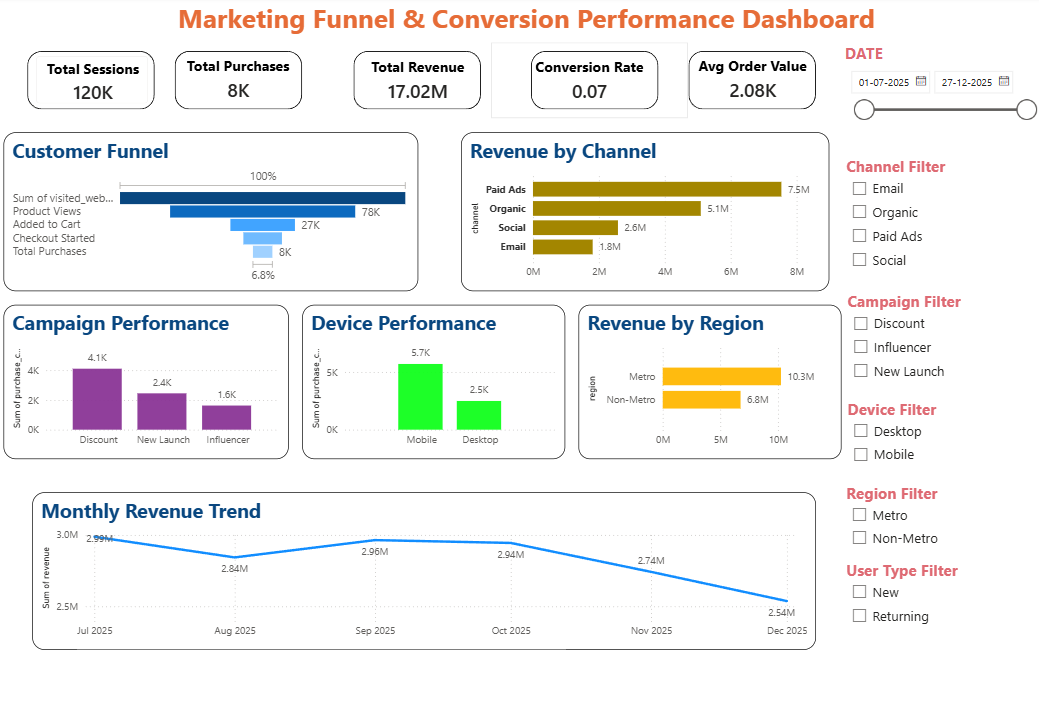

What the dashboard file says about the page in this screenshot:
{"tool":"powerbi","page":{"name":"Page 1","canvas":[1282,900],"ordinal":0},"visuals":[{"type":"shape","box":[38.6,67.1,155.7,71.4],"z":0},{"type":"shape","box":[218.6,67.1,155.7,71.4],"z":1000},{"type":"shape","box":[437.1,67.1,155.7,71.4],"z":2000},{"type":"shape","box":[654.3,67.1,155.7,71.4],"z":3000},{"type":"shape","box":[847.1,67.1,155.7,71.4],"z":4000},{"type":"cardVisual","fields":{"Data":["cleaned_marketing_funnel_data.Total Sessions"]},"box":[31.4,57.1,171.4,92.9],"z":5000},{"type":"cardVisual","fields":{"Data":["cleaned_marketing_funnel_data.Total Purchases"]},"box":[194.3,55.7,204.3,92.9],"z":6000},{"type":"cardVisual","fields":{"Data":["cleaned_marketing_funnel_data.Total Revenue"]},"box":[420,57.1,191.4,92.9],"z":7000},{"type":"cardVisual","fields":{"Data":["cleaned_marketing_funnel_data.Conversion Rate"]},"box":[605.7,57.1,241.4,92.9],"z":8000},{"type":"cardVisual","fields":{"Data":["cleaned_marketing_funnel_data.Avg Order Value"]},"box":[815.7,55.7,218.6,92.9],"z":9000},{"type":"funnel","title":"Customer Funnel","fields":{"Y":["Sum(cleaned_marketing_funnel_data.visited_website)","cleaned_marketing_funnel_data.Product Views","cleaned_marketing_funnel_data.Added to Cart","cleaned_marketing_funnel_data.Checkout Started","cleaned_marketing_funnel_data.Total Purchases"]},"box":[8.6,167.1,507.1,194.3],"z":10000},{"type":"clusteredBarChart","title":"Revenue by Channel","fields":{"Category":["cleaned_marketing_funnel_data.channel"],"Y":["Sum(cleaned_marketing_funnel_data.revenue)"]},"box":[568.6,167.1,450,194.3],"z":11000},{"type":"clusteredColumnChart","title":"Campaign Performance","fields":{"Y":["Sum(cleaned_marketing_funnel_data.purchase_completed)"],"Category":["cleaned_marketing_funnel_data.campaign_type"]},"box":[8.6,377.1,348.6,188.6],"z":12000},{"type":"clusteredColumnChart","title":"Device Performance","fields":{"Y":["Sum(cleaned_marketing_funnel_data.purchase_completed)"],"Category":["cleaned_marketing_funnel_data.device"]},"box":[374.3,377.1,321.4,188.6],"z":13000},{"type":"clusteredBarChart","title":"Revenue by Region","fields":{"Category":["cleaned_marketing_funnel_data.region"],"Y":["Sum(cleaned_marketing_funnel_data.revenue)"]},"box":[712.9,377.1,321.4,188.6],"z":14000},{"type":"lineChart","title":"Monthly Revenue Trend","fields":{"Y":["Sum(cleaned_marketing_funnel_data.revenue)"],"Category":["cleaned_marketing_funnel_data.month.Variation.Date Hierarchy.Year","cleaned_marketing_funnel_data.month.Variation.Date Hierarchy.Quarter","cleaned_marketing_funnel_data.month.Variation.Date Hierarchy.Month","cleaned_marketing_funnel_data.month.Variation.Date Hierarchy.Day"]},"box":[44.3,607.1,958.6,192.9],"z":15000},{"type":"slicer","title":"Channel Filter","fields":{"Values":["cleaned_marketing_funnel_data.channel"]},"box":[1035,195,220,160],"z":16000},{"type":"slicer","title":"Campaign Filter","fields":{"Values":["cleaned_marketing_funnel_data.campaign_type"]},"box":[1035.7,361.4,220,130],"z":17000},{"type":"slicer","title":"Device Filter","fields":{"Values":["cleaned_marketing_funnel_data.device"]},"box":[1035.7,491.4,220,94.3],"z":18000},{"type":"slicer","title":"Region Filter","fields":{"Values":["cleaned_marketing_funnel_data.region"]},"box":[1035,595,220,108.3],"z":19000},{"type":"slicer","title":"User Type Filter","fields":{"Values":["cleaned_marketing_funnel_data.user_type"]},"box":[1035,690,220,120],"z":19001},{"type":"textbox","box":[116.7,0,1065,56.7],"z":19003},{"type":"textbox","box":[100,800,596.7,100],"z":19004},{"type":"slicer","title":"DATE","fields":{"Values":["cleaned_marketing_funnel_data.date"]},"box":[1033.3,56.7,248.3,121.7],"z":19005}]}

Visuals, with their boxes in screenshot pixels (x1, y1, x2, y2), scaled from the page's 1282x900 canvas onto the 1039x723 screenshot:
shape: locate(31, 54, 157, 111)
shape: locate(177, 54, 303, 111)
shape: locate(354, 54, 480, 111)
shape: locate(530, 54, 656, 111)
shape: locate(687, 54, 813, 111)
cardVisual - cleaned_marketing_funnel_data.Total Sessions: locate(25, 46, 164, 120)
cardVisual - cleaned_marketing_funnel_data.Total Purchases: locate(157, 45, 323, 119)
cardVisual - cleaned_marketing_funnel_data.Total Revenue: locate(340, 46, 496, 120)
cardVisual - cleaned_marketing_funnel_data.Conversion Rate: locate(491, 46, 687, 120)
cardVisual - cleaned_marketing_funnel_data.Avg Order Value: locate(661, 45, 838, 119)
"Customer Funnel" funnel: locate(7, 134, 418, 290)
"Revenue by Channel" clusteredBarChart: locate(461, 134, 826, 290)
"Campaign Performance" clusteredColumnChart: locate(7, 303, 289, 454)
"Device Performance" clusteredColumnChart: locate(303, 303, 564, 454)
"Revenue by Region" clusteredBarChart: locate(578, 303, 838, 454)
"Monthly Revenue Trend" lineChart: locate(36, 488, 813, 643)
"Channel Filter" slicer: locate(839, 157, 1017, 285)
"Campaign Filter" slicer: locate(839, 290, 1018, 395)
"Device Filter" slicer: locate(839, 395, 1018, 471)
"Region Filter" slicer: locate(839, 478, 1017, 565)
"User Type Filter" slicer: locate(839, 554, 1017, 651)
textbox: locate(95, 0, 958, 46)
textbox: locate(81, 643, 565, 722)
"DATE" slicer: locate(837, 46, 1038, 143)
